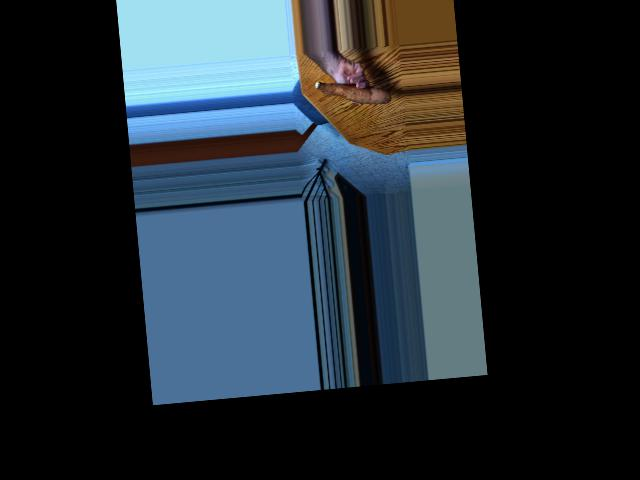sweet_potato: (316, 74, 388, 114)
